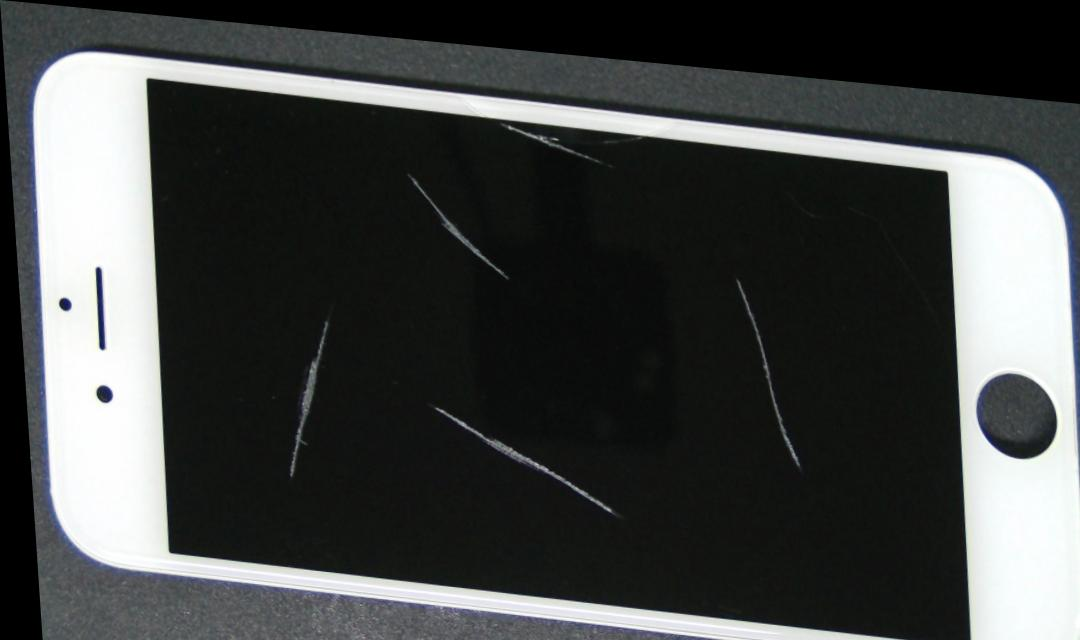Scratches: (409, 383, 641, 535), (698, 240, 823, 481), (400, 155, 521, 311), (286, 299, 343, 501), (471, 118, 639, 177)
